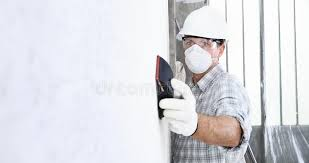Helmet: (178, 4, 231, 40)
Mask: (178, 45, 218, 74)
No-jacket: (175, 77, 242, 163)
